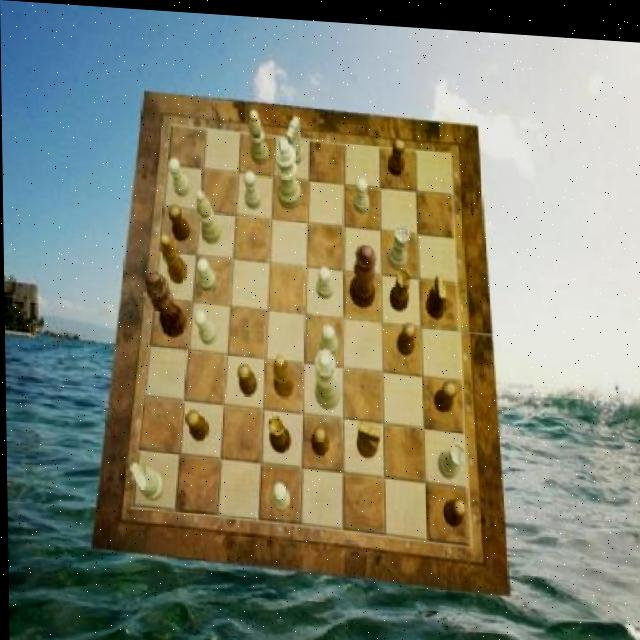bishop: (160, 231, 188, 282), (272, 351, 294, 394)
black-bishop: (145, 269, 185, 336)
black-king: (425, 267, 446, 313), (354, 417, 379, 454)
black-knight: (167, 201, 190, 240), (432, 375, 455, 408), (185, 408, 208, 440), (387, 132, 405, 171), (441, 492, 464, 521), (395, 316, 414, 351), (237, 360, 257, 393), (310, 420, 328, 452)
black-pawn: (348, 240, 376, 305)
black-queen: (388, 261, 410, 305), (266, 412, 290, 451)
black-rook: (194, 187, 219, 242), (247, 105, 268, 161)
white-bishop: (272, 132, 299, 206)
white-king: (127, 460, 162, 499), (284, 112, 303, 161)
white-knight: (167, 155, 190, 194), (193, 307, 216, 342), (195, 255, 216, 290), (243, 168, 260, 206), (353, 172, 370, 209), (318, 319, 336, 351), (315, 263, 332, 296), (271, 478, 288, 508)
white-pawn: (313, 344, 340, 405)
white-queen: (385, 220, 409, 265), (436, 437, 463, 474)
